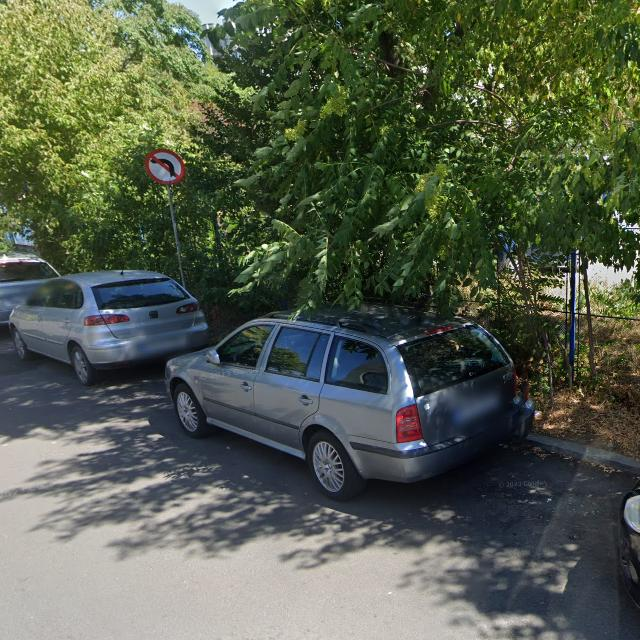forb_left: (145, 148, 185, 184)
